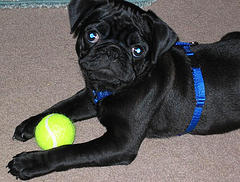tennis ball: (33, 113, 76, 151)
